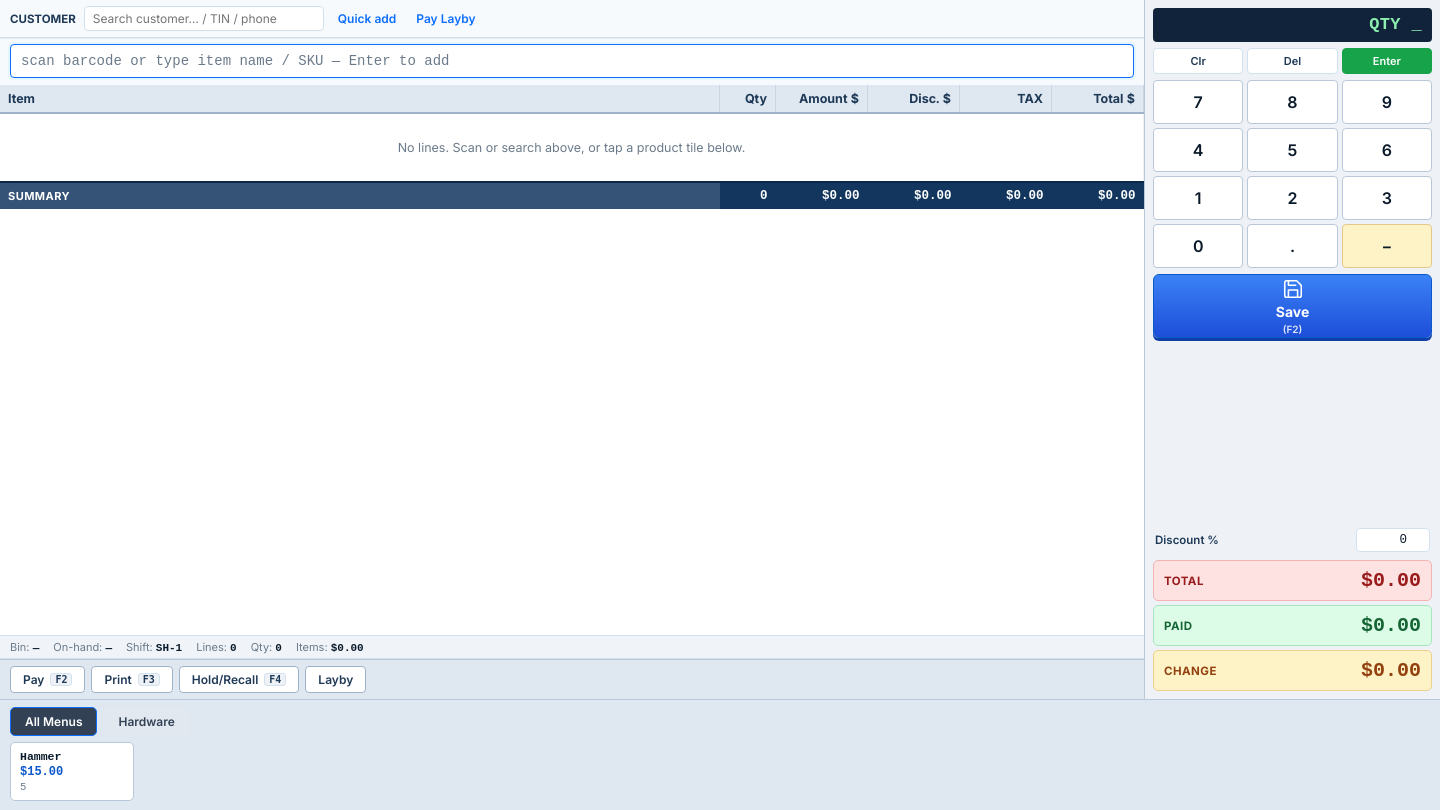
DesktopPOSTerminal › rings a product with tax included in the total and summary row
This screenshot has width=1440, height=810.
What coordinates should you click on to do the following:
click the button "Hammer $15.00 5"
I would click on:
 (72, 772)
Its box is top-left (10, 742), bottom-right (134, 801).
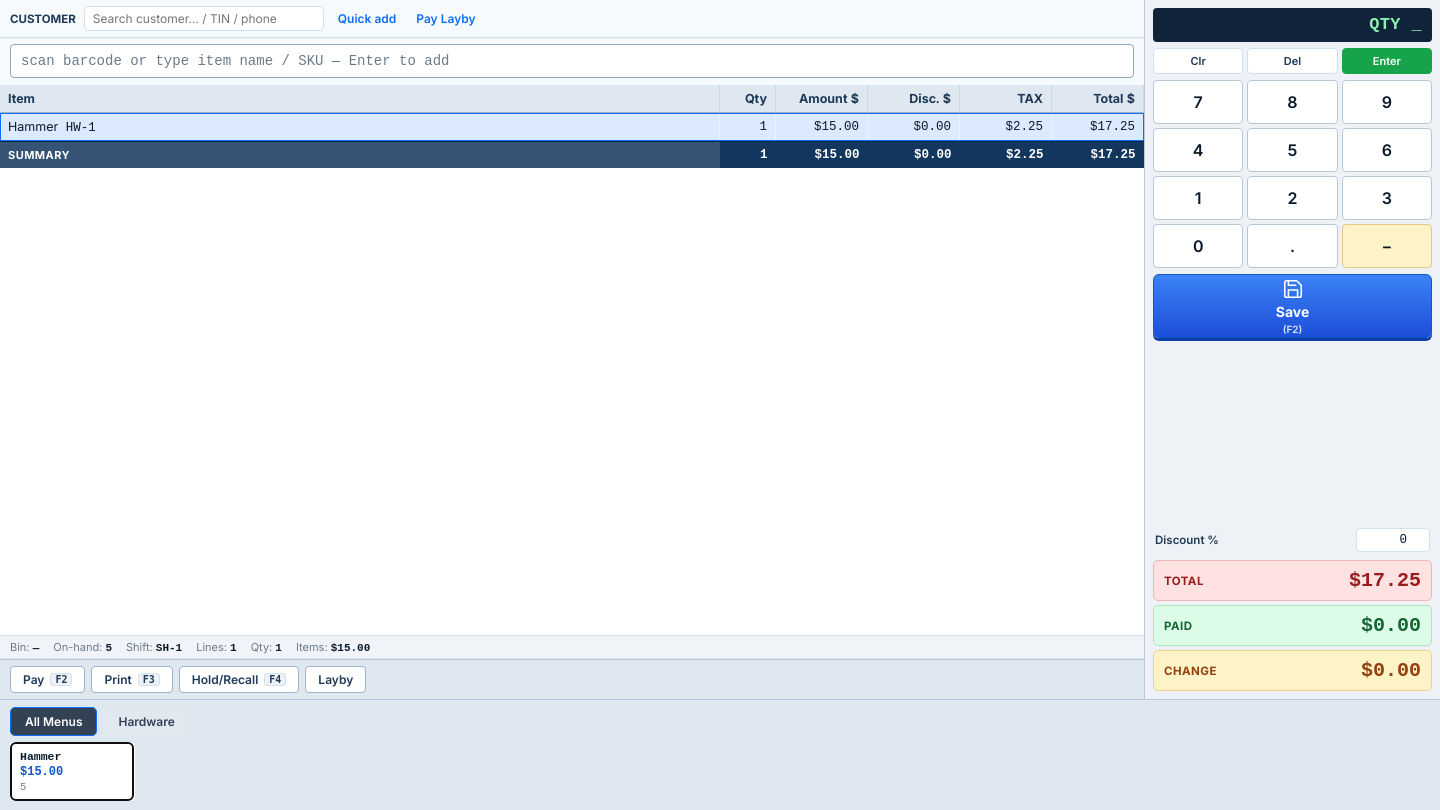
Check: the text "$17.25" in the row of "HW-1" is shown, box top-left (1090, 120), bottom-right (1135, 134)
